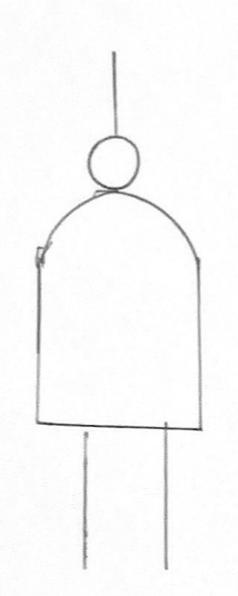NAND: (24, 111, 229, 462)
